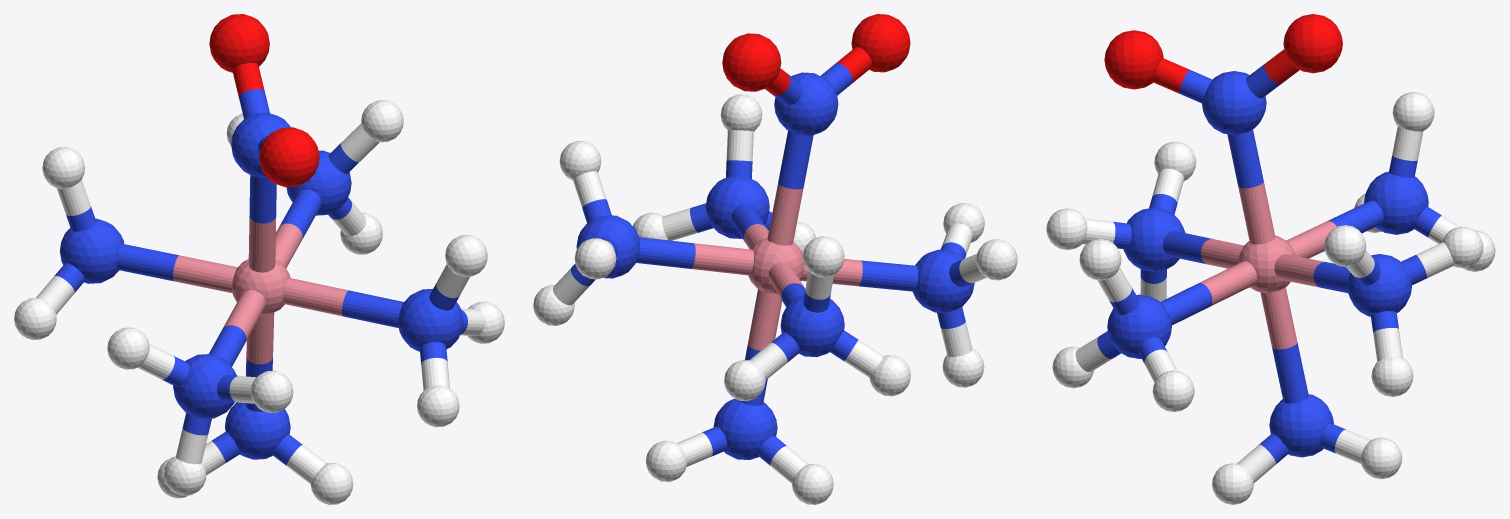
Rendered from MoleculeCoA5NO2.dae.
3 views of the same model, side by side, from view 1: azimuth 30°, elevation 25°; view 2: azimuth 150°, elevation 25°; view 3: azimuth 270°, elevation 25° (orthographic). The views are drawn at different scales.
Visible parts, largest first — view 1: skp1863; view 2: skp1863; view 3: skp1863.
Boxes of the visible parts, x1,y1,x2,y2 form: skp1863: [14, 14, 504, 504]; skp1863: [533, 14, 1017, 504]; skp1863: [1046, 14, 1495, 504].
Bounding box in the file's own units: 0.1288 × 0.1303 × 0.1478.
